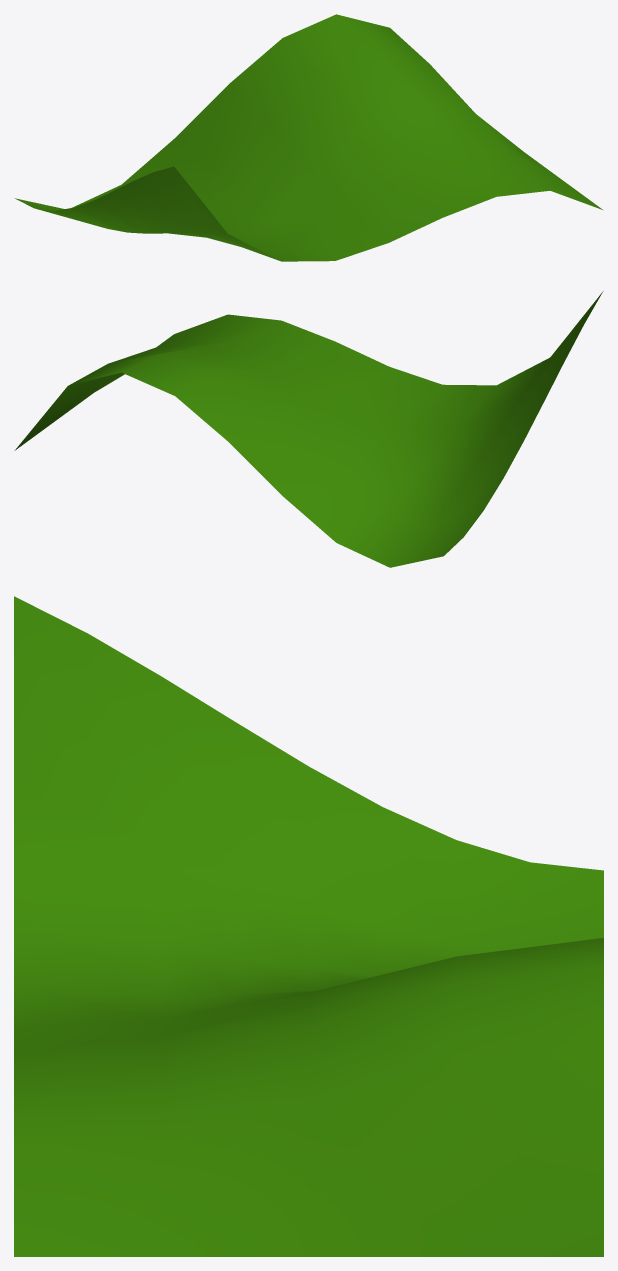
File: ripple.obj
3 renders of one model, top to bottom at view 1: azimuth 30°, elevation 25°; view 2: azimuth 150°, elevation 25°; view 3: azimuth 270°, elevation 25°, orthographic. The views are drawn at different scales.
Visible parts, largest first — view 1: Plane001; view 2: Plane001; view 3: Plane001.
Boxes of the visible parts, <box> form: Plane001: <box>14,14,603,261</box>; Plane001: <box>14,291,603,567</box>; Plane001: <box>14,596,603,1256</box>.
Bounding box in the file's own units: 108 × 41.56 × 69.48.
